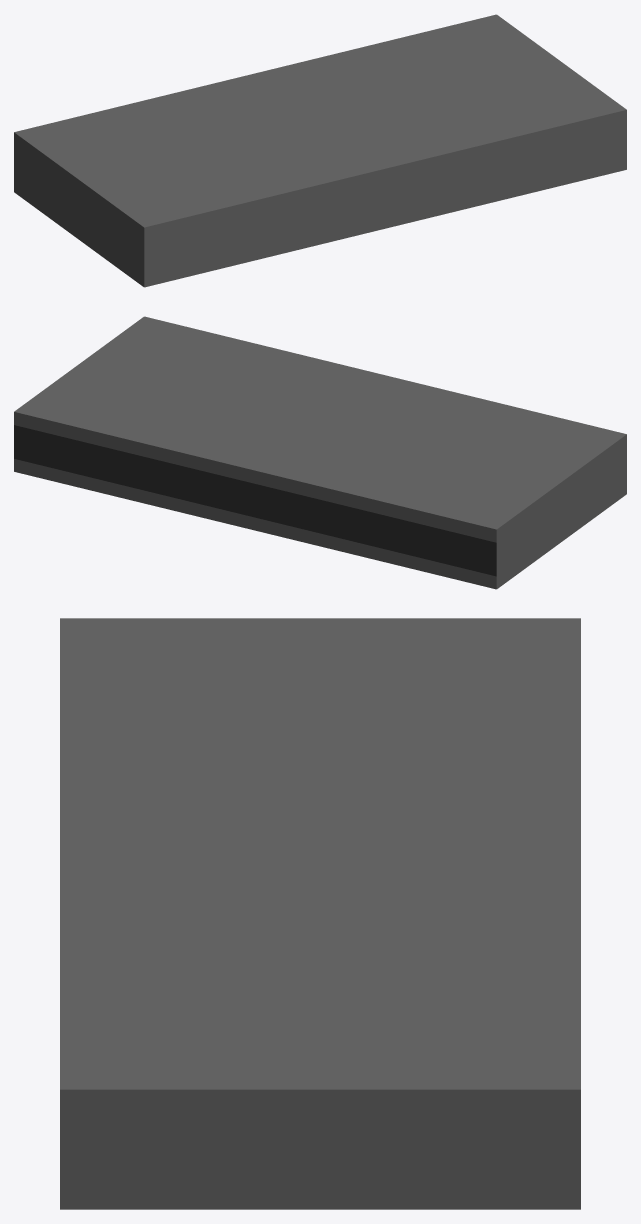
The model's file is Obstacle_SpinBlade_Base.fbx.
The picture shows the model from 3 angles, top to bottom: view 1: azimuth 30°, elevation 25°; view 2: azimuth 150°, elevation 25°; view 3: azimuth 270°, elevation 25°; orthographic projection. The views are drawn at different scales.
Parts seen in each view (by area): view 1: Obstacle_SpinBlade_Base; view 2: Obstacle_SpinBlade_Base; view 3: Obstacle_SpinBlade_Base.
Part boxes in pixels (x1,y1,x2,y2): Obstacle_SpinBlade_Base: (14,14,626,287); Obstacle_SpinBlade_Base: (14,316,626,589); Obstacle_SpinBlade_Base: (60,618,580,1209).
Bounding box in the file's own units: 735 × 87.29 × 344.
